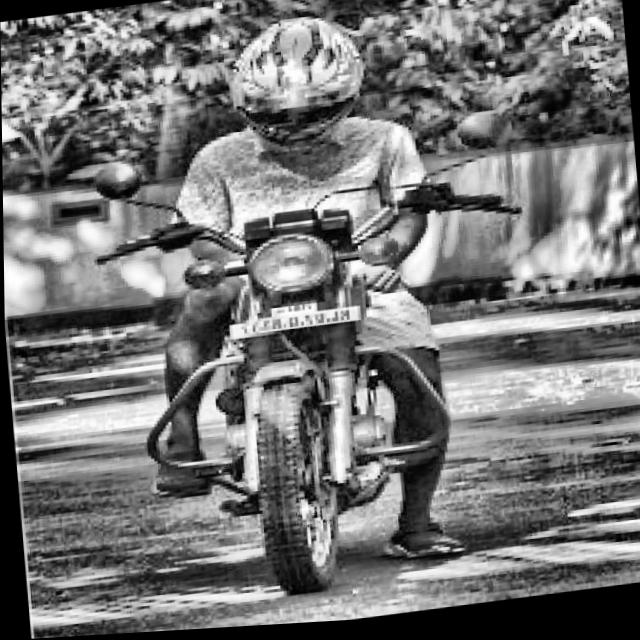motorcycle: (64, 102, 560, 614)
